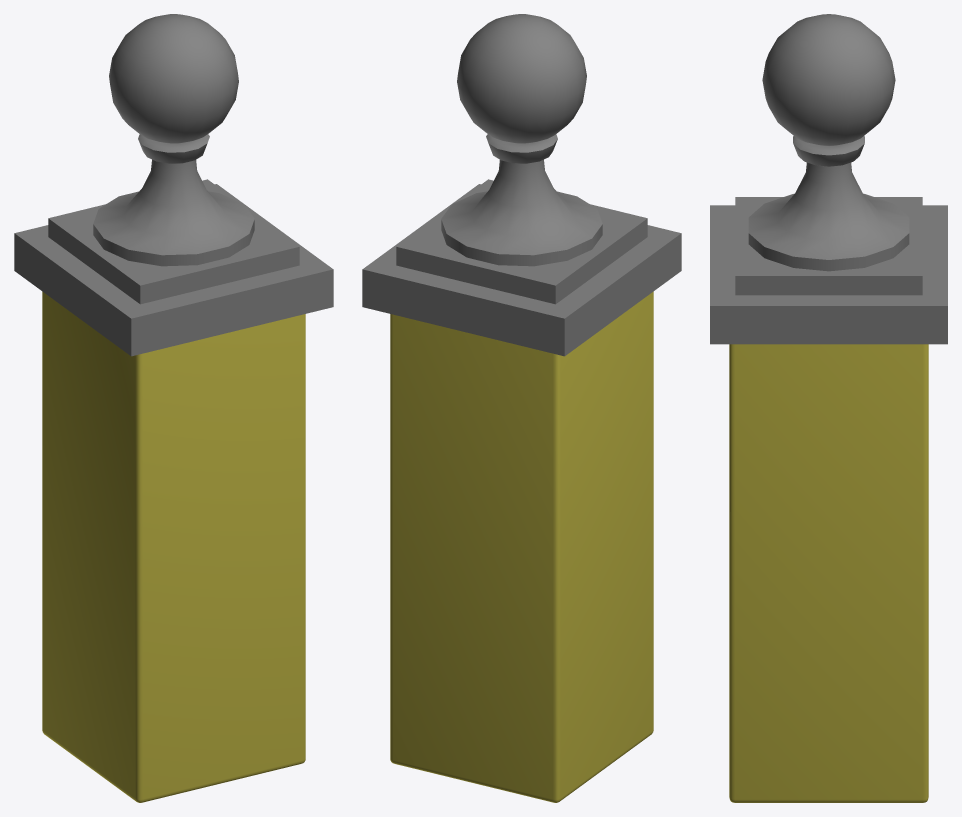
The model's file is SM_wall_pillar.fbx.
The picture shows the model from 3 angles, left to right: view 1: azimuth 30°, elevation 25°; view 2: azimuth 150°, elevation 25°; view 3: azimuth 270°, elevation 25°; orthographic projection.
Visible parts, largest first — view 1: Box083; view 2: Box083; view 3: Box083.
Part boxes in pixels (x1,y1,x2,y2): Box083: (14, 14, 333, 802); Box083: (362, 14, 681, 802); Box083: (710, 14, 947, 802).
Size of the model in its own units: 25.71 by 88.61 by 25.71.
